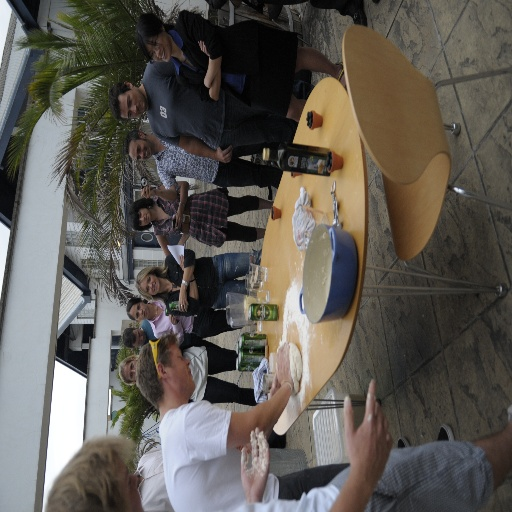hand: (341, 387, 398, 494), (239, 425, 271, 500), (275, 339, 293, 390), (267, 373, 281, 401), (215, 146, 231, 164), (140, 184, 157, 200), (177, 289, 188, 313), (195, 40, 210, 57), (172, 212, 183, 232), (169, 313, 178, 326), (178, 252, 184, 271)
